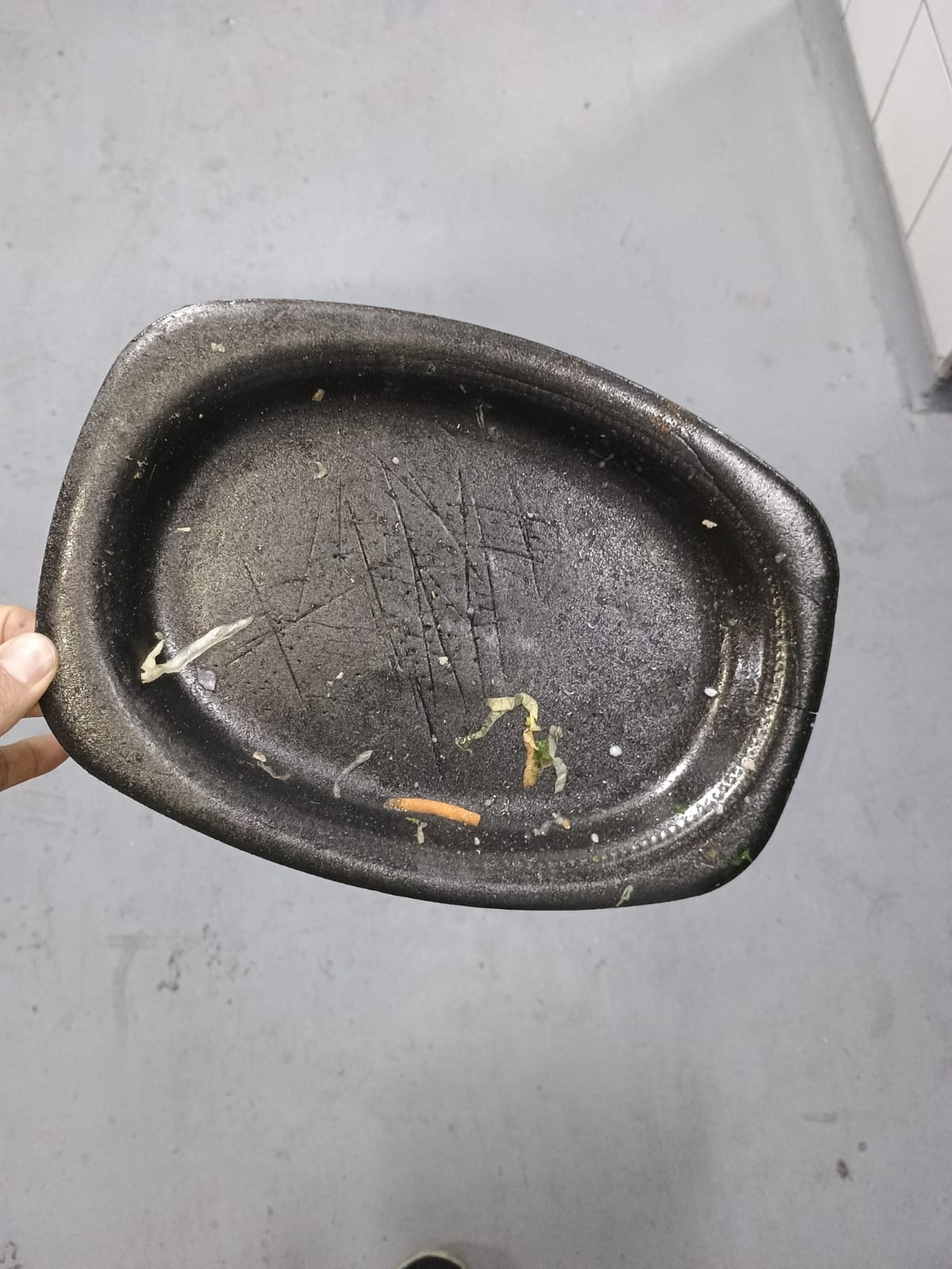Ordinario: (37, 303, 837, 908)
